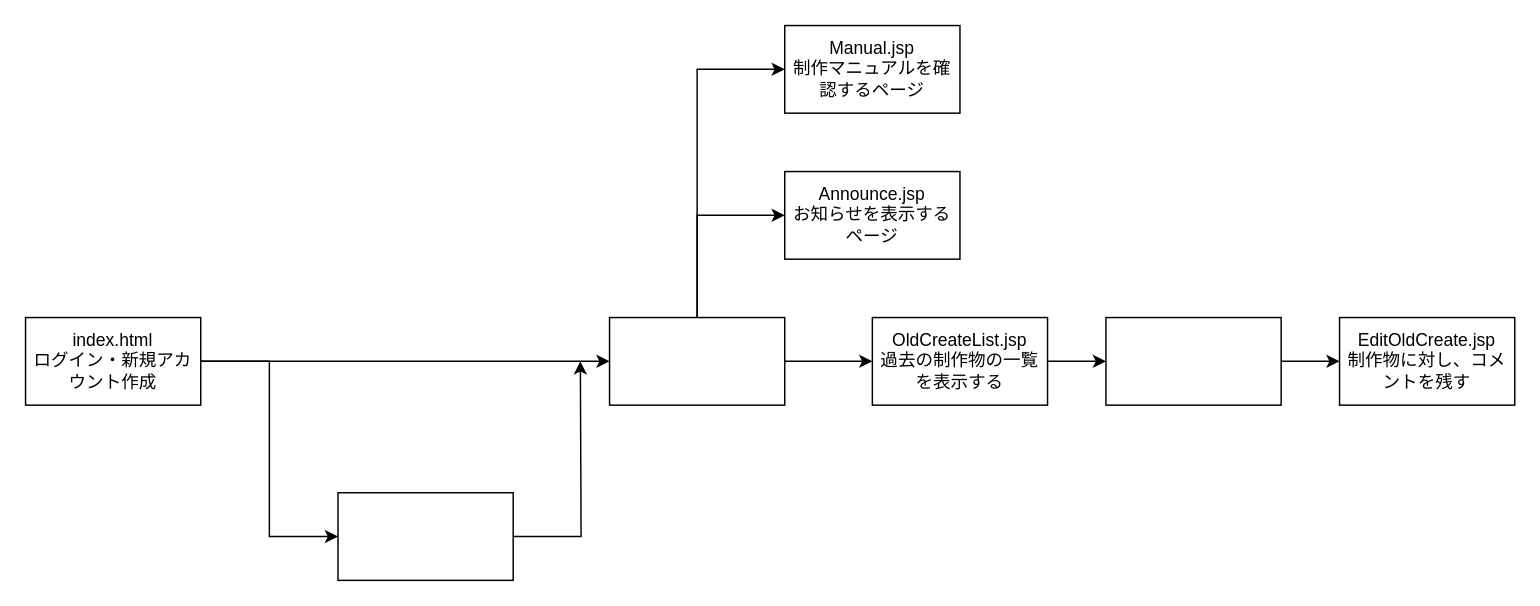
The diagram is 1540 pixels wide and 606 high, and some of its shapes have lost their labels. The centre of each missing label's shape, as x and y in pixels:
"AddUser.jsp" belongs at point (425, 535).
"OldCreate.jsp 過去の制作物を表示する" belongs at point (1192, 360).
"UserPage.jsp メインページ" belongs at point (696, 360).
